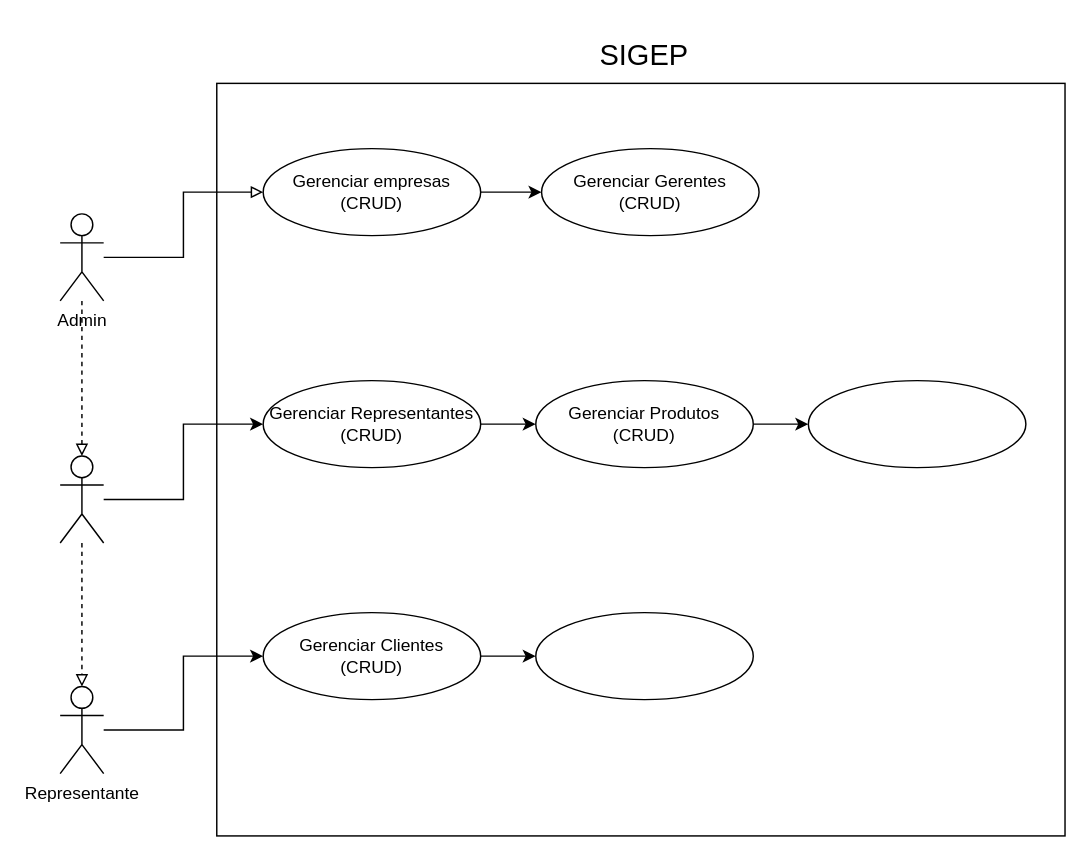
The diagram is 1090 pixels wide and 861 high, and some of its shapes have lost their labels. Here are the shapes that lost their labels. From the top down, the box of each, then its label:
(807, 379, 1026, 468): Gerenciar Perfis de Usuários (CRUD)
(59, 455, 104, 543): Gerente
(534, 611, 753, 700): Criar Pedidos
